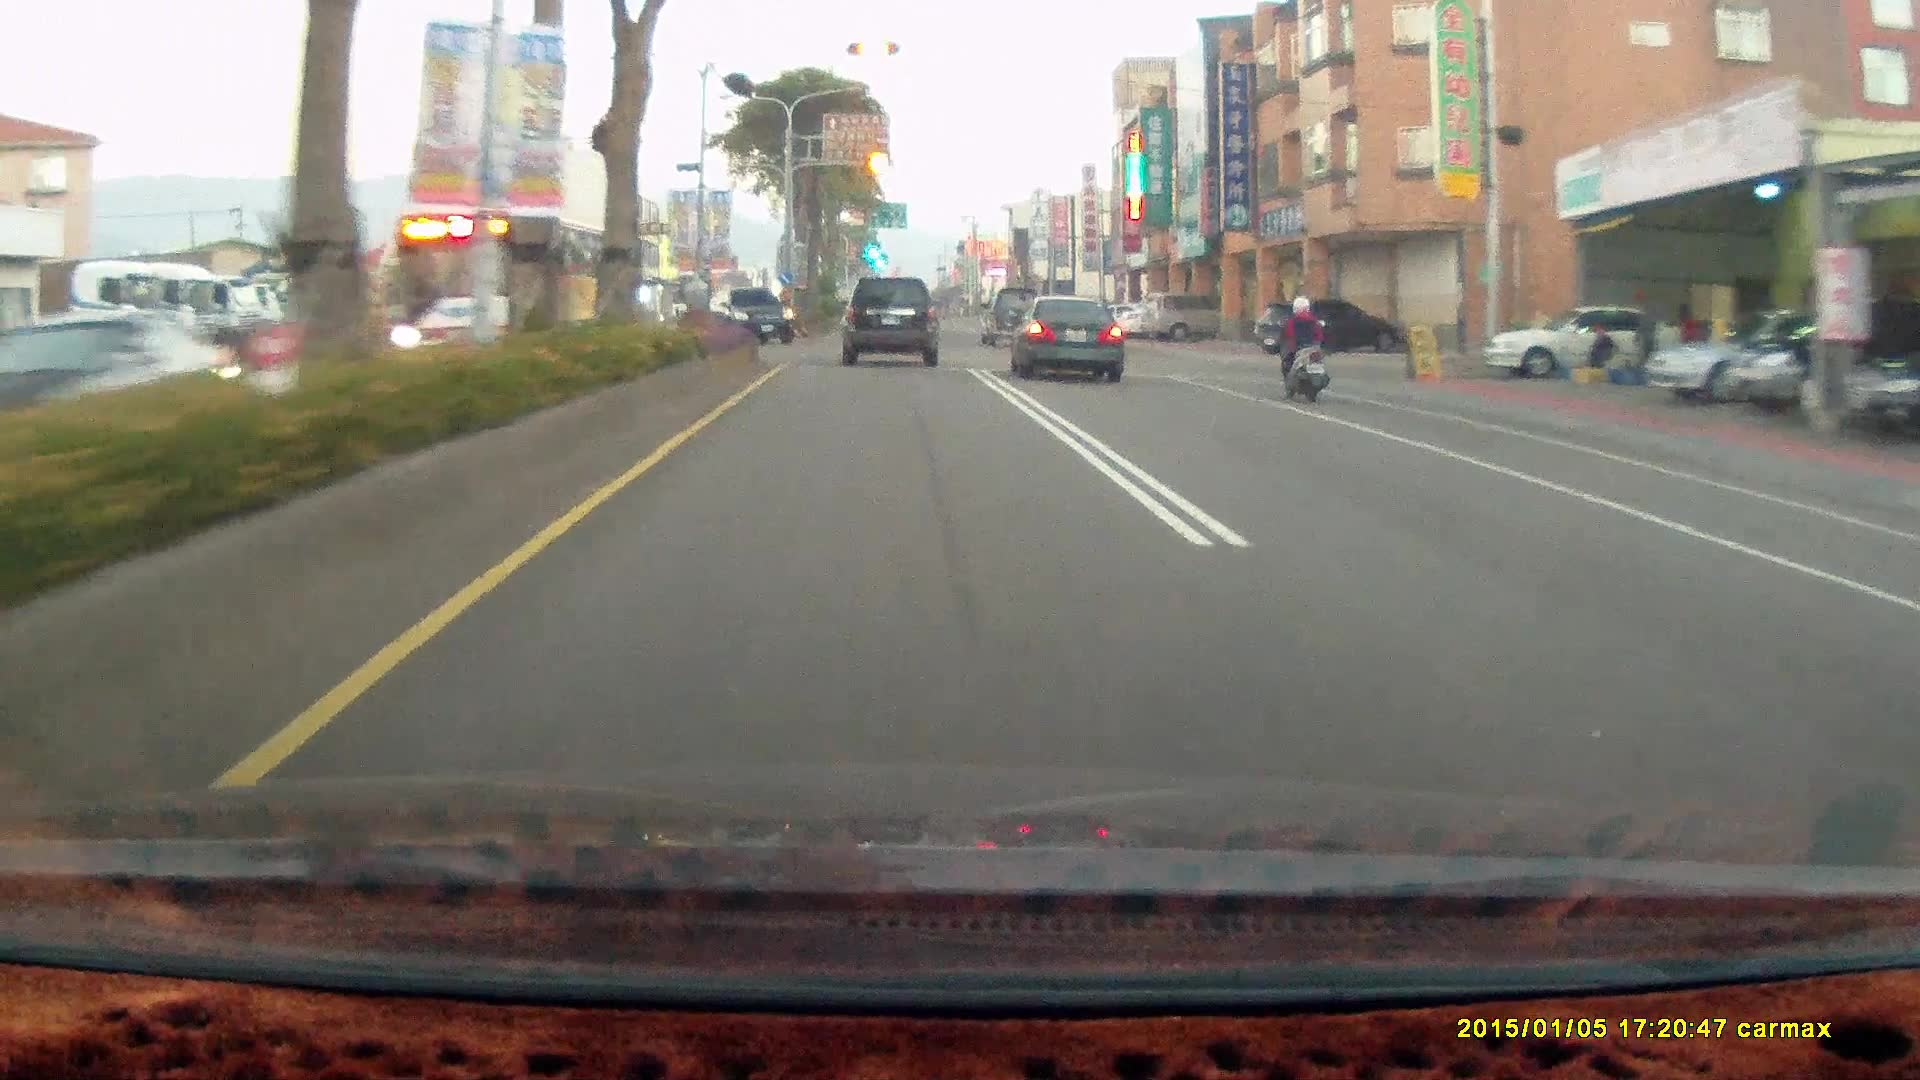pedestrian: (1636, 291, 1663, 383), (1675, 302, 1702, 373), (1588, 323, 1617, 384)
rider: (1263, 286, 1341, 414), (1271, 294, 1329, 401)
vehicle: (377, 207, 646, 366), (393, 205, 643, 364), (0, 305, 237, 447), (1704, 302, 1920, 429), (1, 306, 235, 416), (1643, 312, 1887, 410), (1723, 302, 1920, 415), (1652, 306, 1854, 405), (1476, 302, 1687, 377), (1480, 303, 1687, 378), (1013, 298, 1133, 392), (1002, 292, 1122, 380), (840, 281, 944, 373), (840, 275, 938, 367), (1256, 300, 1403, 360), (1255, 300, 1401, 359), (1854, 345, 1919, 438), (714, 284, 797, 345), (1147, 292, 1243, 341), (712, 285, 795, 343), (1142, 293, 1223, 345), (977, 285, 1042, 345)
